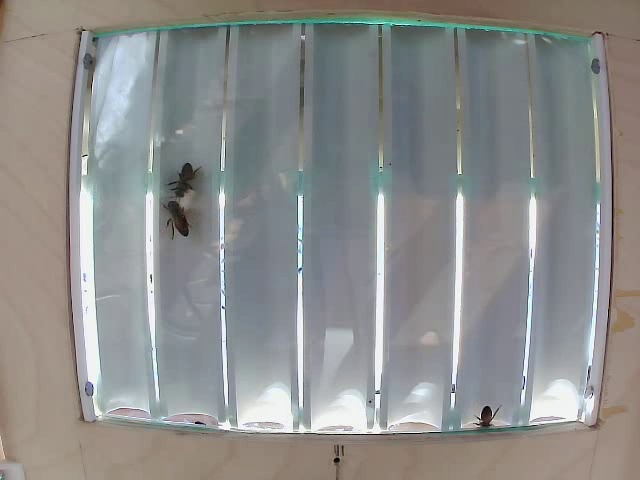bee: (172, 164, 206, 197), (157, 192, 191, 224), (465, 391, 492, 429)
